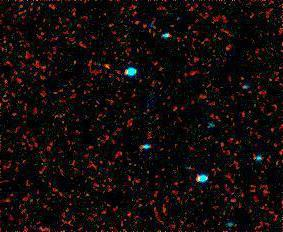star: (92, 54, 122, 84)
